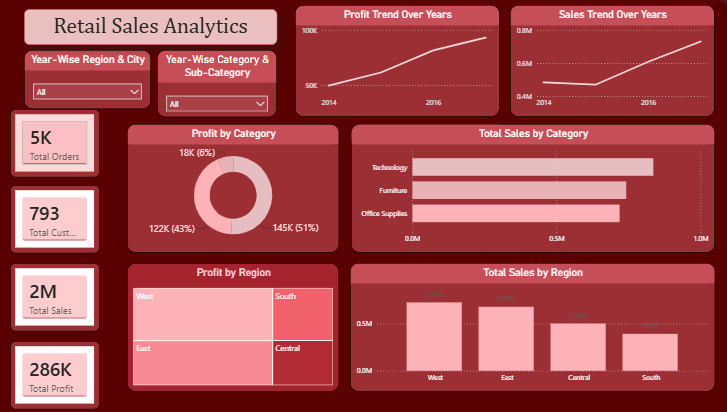

The dashboard page shown, as its layout file describes it:
{"tool":"powerbi","page":{"name":"Executive Overview","canvas":[1280,720],"ordinal":0},"visuals":[{"type":"cardVisual","fields":{"Data":["Measures (2).Total Sales"]},"box":[48.3,0,216.7,137.7],"z":0},{"type":"cardVisual","fields":{"Data":["Measures (2).Total Customers"]},"box":[698,0,193.2,139.4],"z":1000},{"type":"cardVisual","fields":{"Data":["Measures (2).Total Profit"]},"box":[264.9,0,226.8,137.7],"z":2000},{"type":"cardVisual","fields":{"Data":["Measures (2).Total Orders"]},"box":[491.7,0,206.6,139.4],"z":3000},{"type":"slicer","fields":{"Values":["Global_Superstore_cleaned.order_year","Global_Superstore_cleaned.region","Global_Superstore_cleaned.category","Global_Superstore_cleaned.segment"]},"box":[932.2,24.9,301.5,147.8],"z":4000},{"type":"lineChart","title":"Sales Trend","fields":{"Category":["Global_Superstore_cleaned.order_year"],"Y":["Measures (2).Total Sales"]},"box":[48.3,139,547.3,267.8],"z":5000},{"type":"clusteredBarChart","title":"Total Sales by Category","fields":{"Category":["Global_Superstore_cleaned.category"],"Y":["Measures (2).Total Sales"]},"box":[626.3,172.7,654.1,235.6],"z":6000},{"type":"clusteredColumnChart","title":"Total Profit by Region","fields":{"Category":["Global_Superstore_cleaned.region"],"Y":["Measures (2).Total Profit"]},"box":[627.8,425.9,607.3,254.6],"z":7000},{"type":"lineChart","title":"Profit Trend","fields":{"Y":["Measures (2).Total Profit"],"Category":["Global_Superstore_cleaned.order_year"]},"box":[48.3,425.9,547,255],"z":8000}]}

Visuals, with their boxes in screenshot pixels (x1, y1, x2, y2), scaled from the page's 1280x720 canvas onto the 727x412 screenshot:
cardVisual - Measures (2).Total Sales: box(27, 0, 151, 79)
cardVisual - Measures (2).Total Customers: box(396, 0, 506, 80)
cardVisual - Measures (2).Total Profit: box(150, 0, 279, 79)
cardVisual - Measures (2).Total Orders: box(279, 0, 397, 80)
slicer - Global_Superstore_cleaned.order_year x Global_Superstore_cleaned.region: box(529, 14, 701, 99)
"Sales Trend" lineChart: box(27, 80, 338, 233)
"Total Sales by Category" clusteredBarChart: box(356, 99, 726, 234)
"Total Profit by Region" clusteredColumnChart: box(357, 244, 701, 389)
"Profit Trend" lineChart: box(27, 244, 338, 390)
